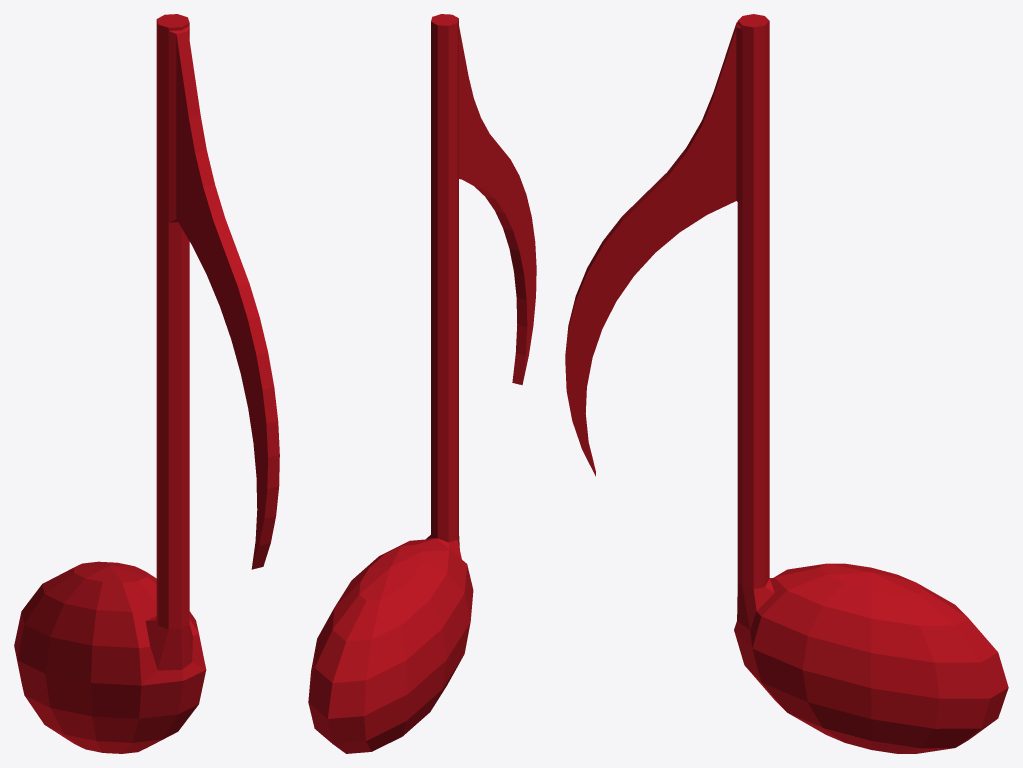
File: music.obj
3 views of the same model, side by side, from view 1: azimuth 30°, elevation 25°; view 2: azimuth 150°, elevation 25°; view 3: azimuth 270°, elevation 25° (orthographic). The views are drawn at different scales.
Visible parts, largest first — view 1: Mesh_MusicNote; view 2: Mesh_MusicNote; view 3: Mesh_MusicNote.
Boxes of the visible parts, x1,y1,x2,y2 form: Mesh_MusicNote: (14,14,279,753); Mesh_MusicNote: (308,14,536,753); Mesh_MusicNote: (565,14,1008,753).
Size of the model in its own units: 0.44 by 2.53 by 1.39.
